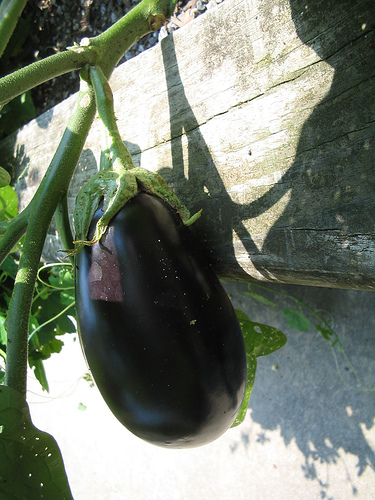eggplant: (65, 142, 260, 452)
